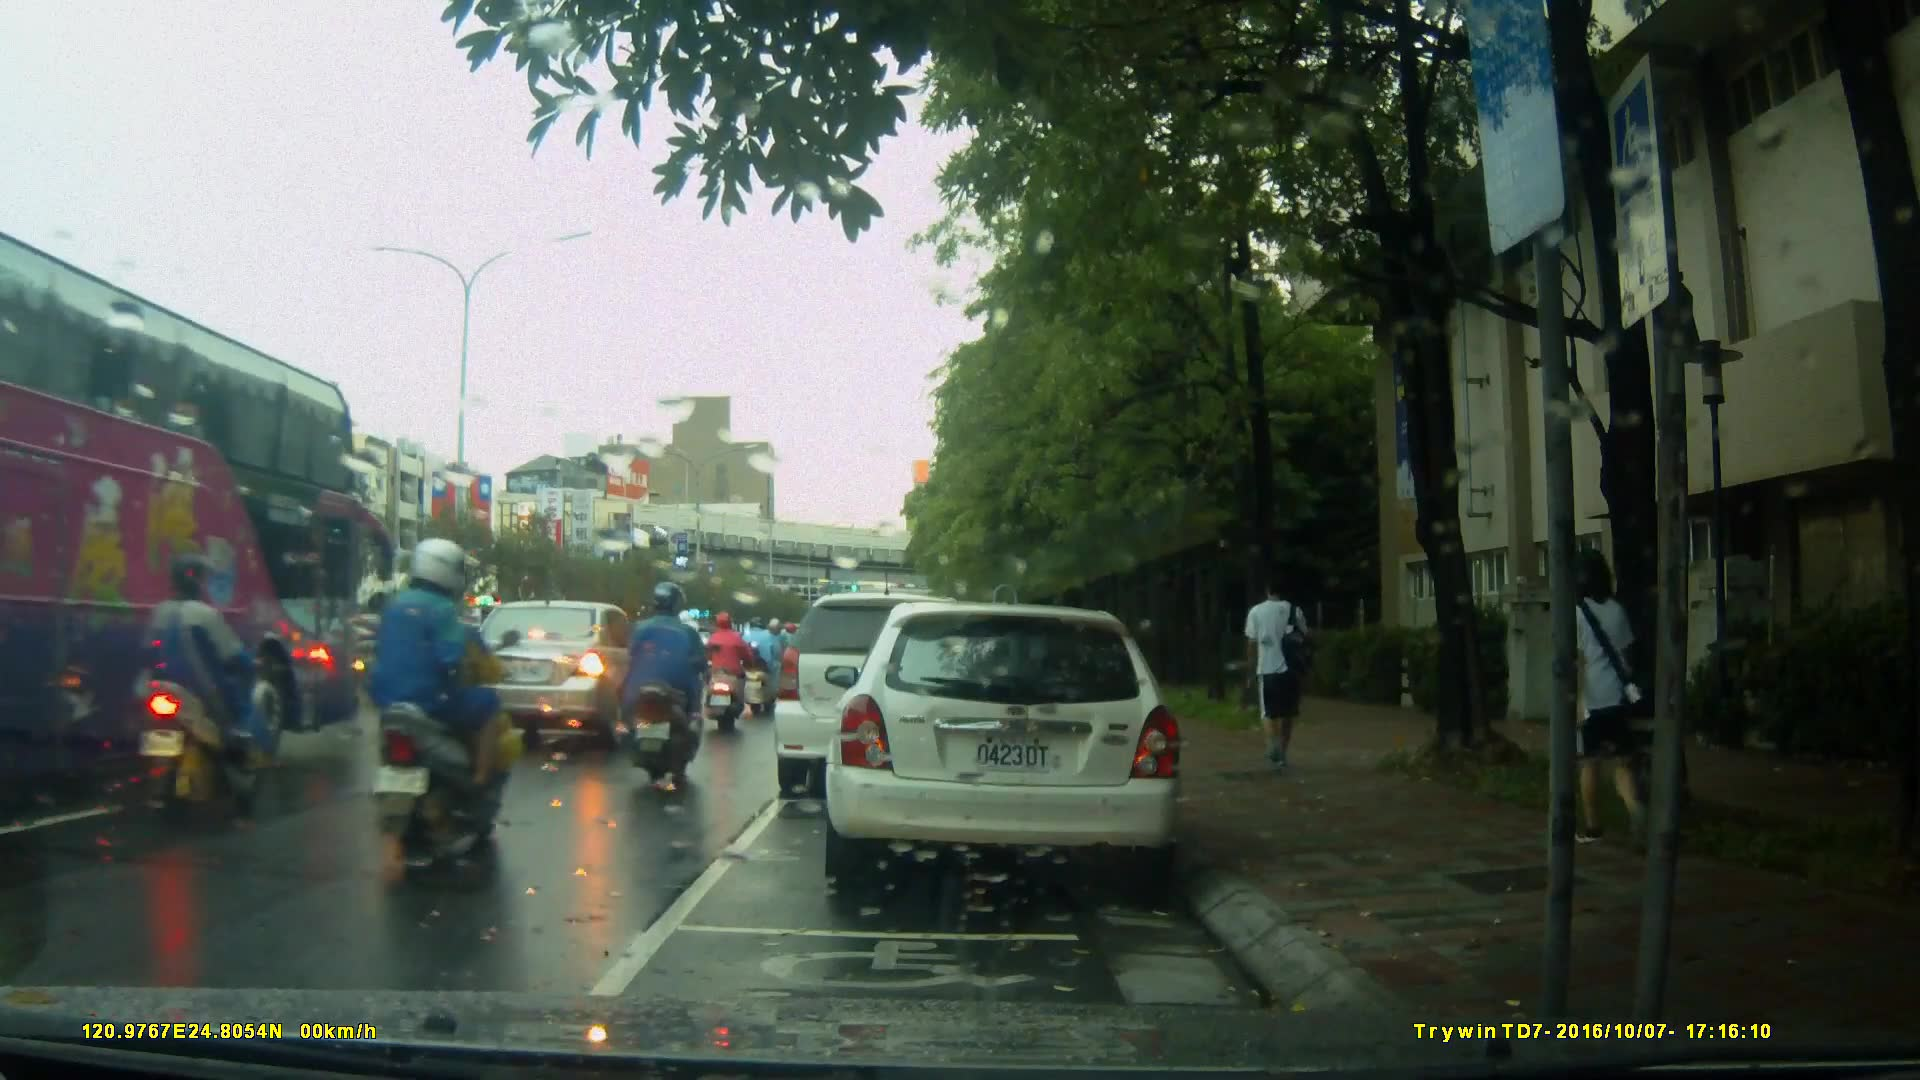pedestrian: (1535, 545, 1645, 854), (1231, 567, 1320, 788)
rider: (372, 540, 517, 867), (138, 548, 280, 823), (620, 579, 710, 787), (701, 605, 758, 730), (741, 612, 782, 712), (771, 620, 808, 708)
vehicle: (10, 243, 381, 863), (812, 604, 1188, 882), (774, 595, 995, 802), (450, 598, 677, 750)
